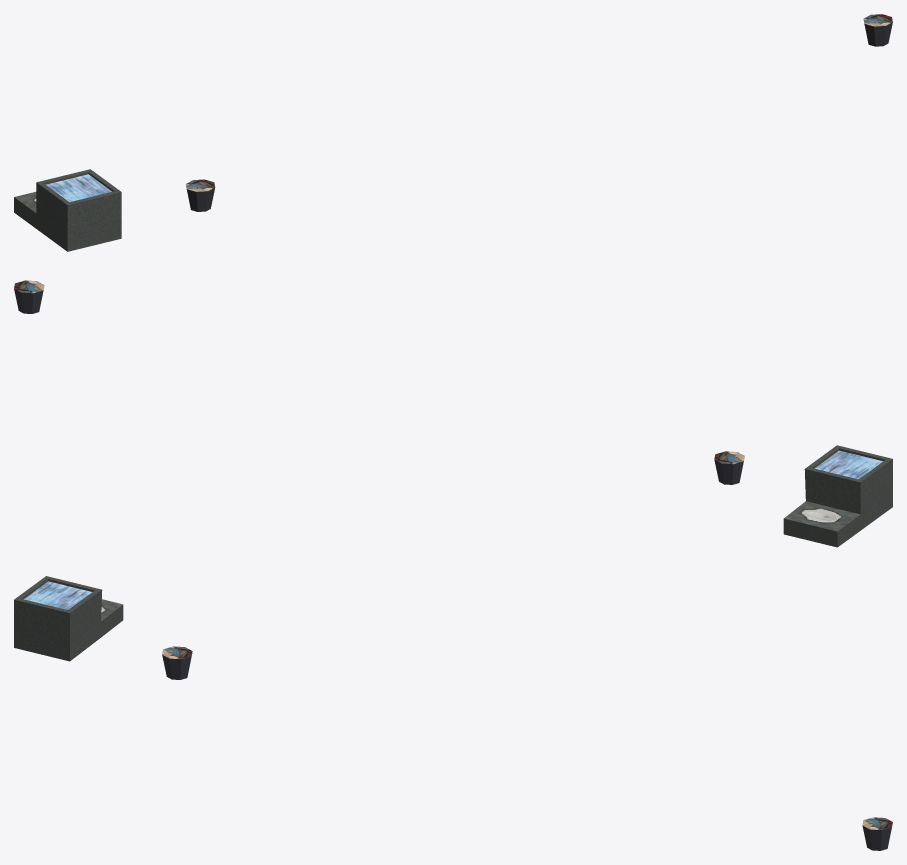
The model's file is Asset Main Building_V2.fbx_WC_Tamu.fbx.
The picture shows the model from 3 angles, top to bottom: view 1: azimuth 30°, elevation 25°; view 2: azimuth 150°, elevation 25°; view 3: azimuth 330°, elevation 25°; orthographic projection. The views are drawn at different scales.
Parts seen in each view (by area): view 1: Kloset Tamu, Ember.001, Ember; view 2: Kloset Tamu, Ember, Ember.001; view 3: Kloset Tamu, Ember, Ember.001.
Boxes of the visible parts, x1,y1,x2,y2 form: Kloset Tamu: (14,169,121,251); Ember.001: (863,14,892,46); Ember: (185,179,215,211); Kloset Tamu: (783,445,892,547); Ember: (714,451,744,484); Ember.001: (14,280,44,313); Kloset Tamu: (14,576,123,661); Ember: (162,646,192,679); Ember.001: (862,817,892,850).
Bounding box in the file's own units: 15298 × 825 × 1697.
